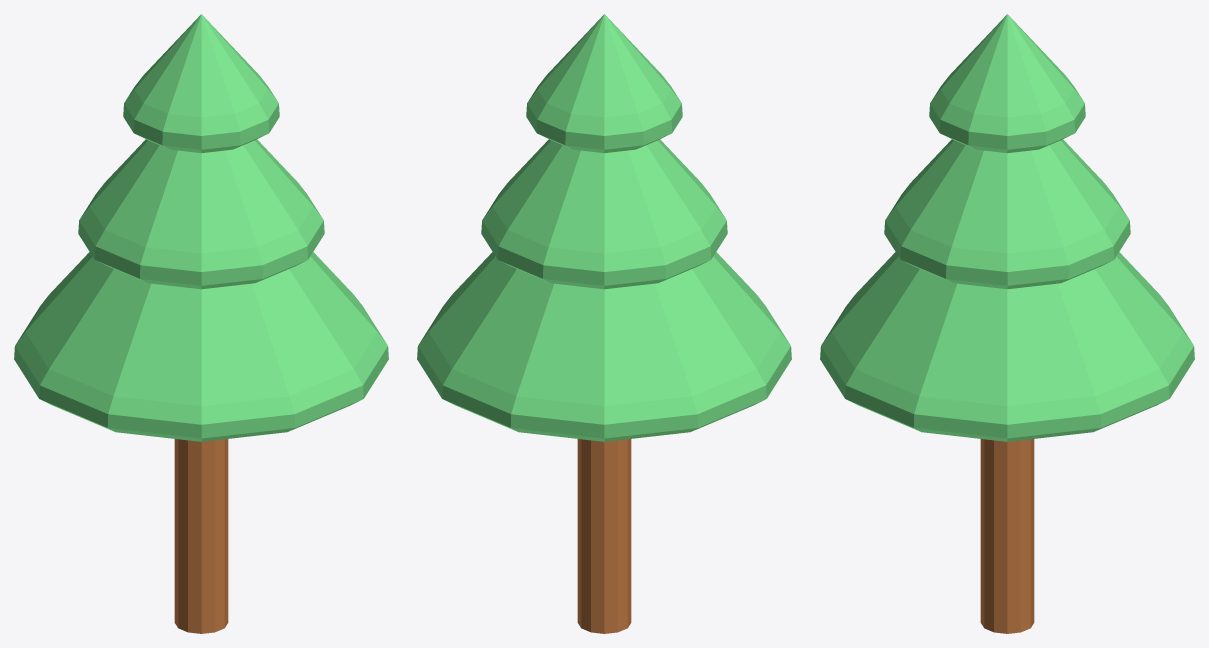
File: Tree.glb
The picture shows the model from 3 angles, left to right: view 1: azimuth 30°, elevation 25°; view 2: azimuth 150°, elevation 25°; view 3: azimuth 270°, elevation 25°; orthographic projection.
Parts seen in each view (by area): view 1: Leaves, Base; view 2: Leaves, Base; view 3: Leaves, Base.
Part boxes in pixels (box(x1,y1,x2,y2)): Leaves: box(14, 14, 388, 441); Base: box(174, 439, 228, 633); Leaves: box(417, 14, 791, 441); Base: box(577, 439, 631, 633); Leaves: box(820, 14, 1194, 441); Base: box(980, 439, 1034, 633).
Size of the model in its own units: 6.97 by 12.48 by 6.97.
